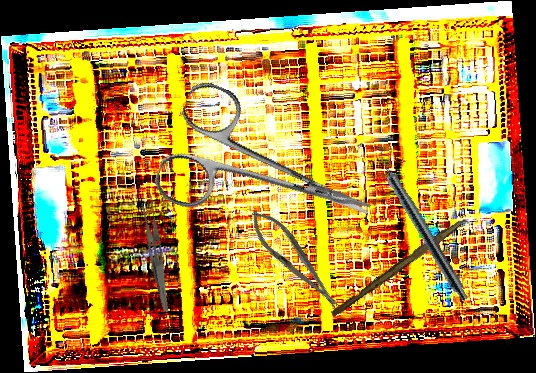Dressing Forceps: (134, 193, 182, 314)
Handpiece: (370, 147, 474, 303)
Iris Scissors: (149, 77, 391, 272)
Needle Holder: (241, 202, 348, 317)
Scalpel Handle: (330, 217, 462, 320)
